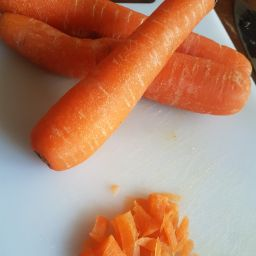Sliced carrots: (1, 2, 256, 178), (6, 11, 254, 124), (81, 187, 204, 256)
